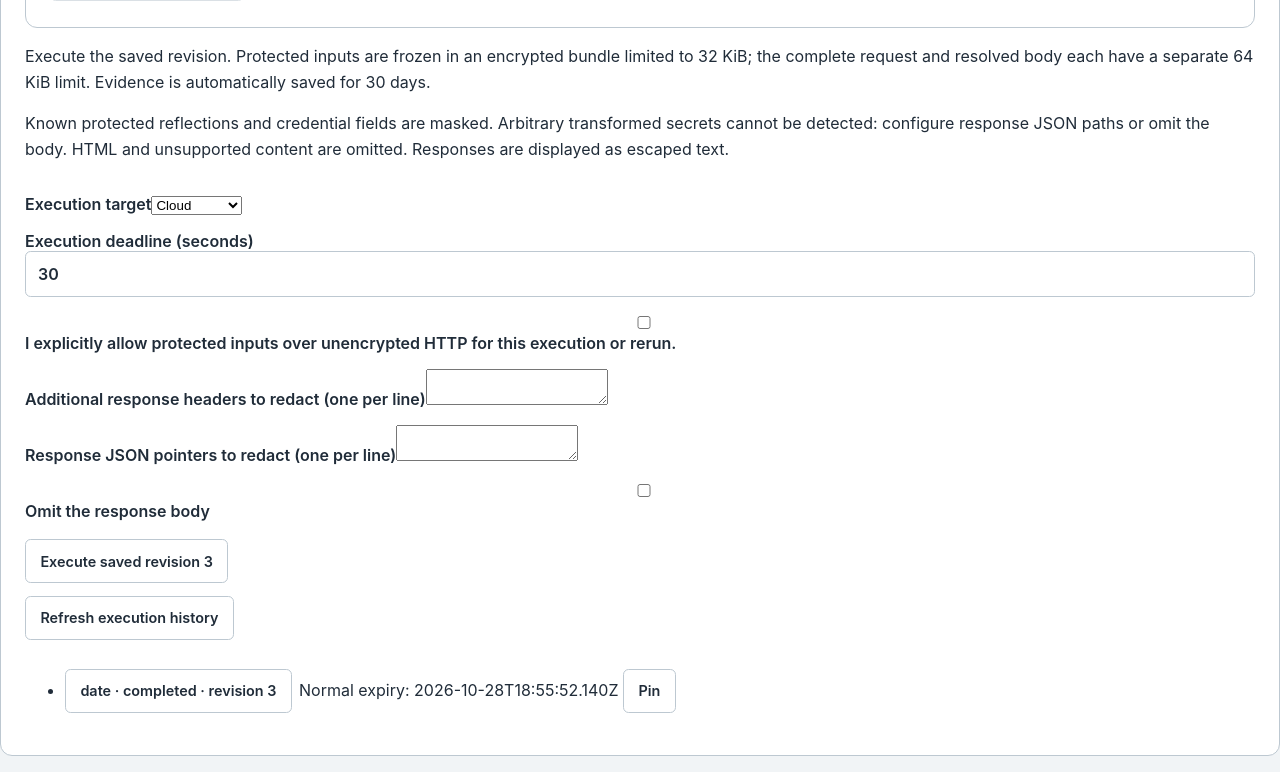
Scenario: refreshes a quota conflict without replaying pin and reconciles uncertain writes deliberately
(page scrolled)
Click the button with aria-label "Pin evidence execution-a": [649, 691] box [623,669,676,713]
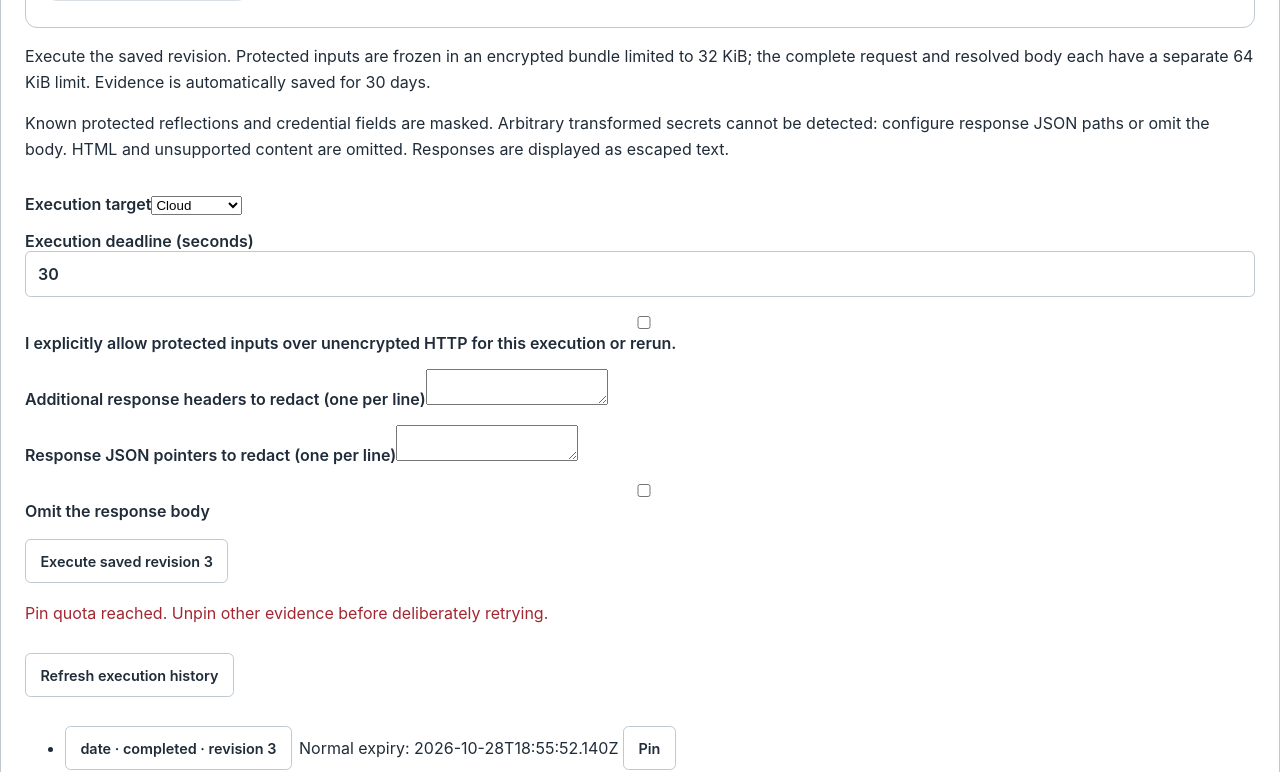
Now the text "Pin quota reached. Unpin other evidence before deliberately retrying." is shown, box [25,603,548,623]
Click the button with aria-label "Pin evidence execution-a": [649, 748] box [623,726,676,770]
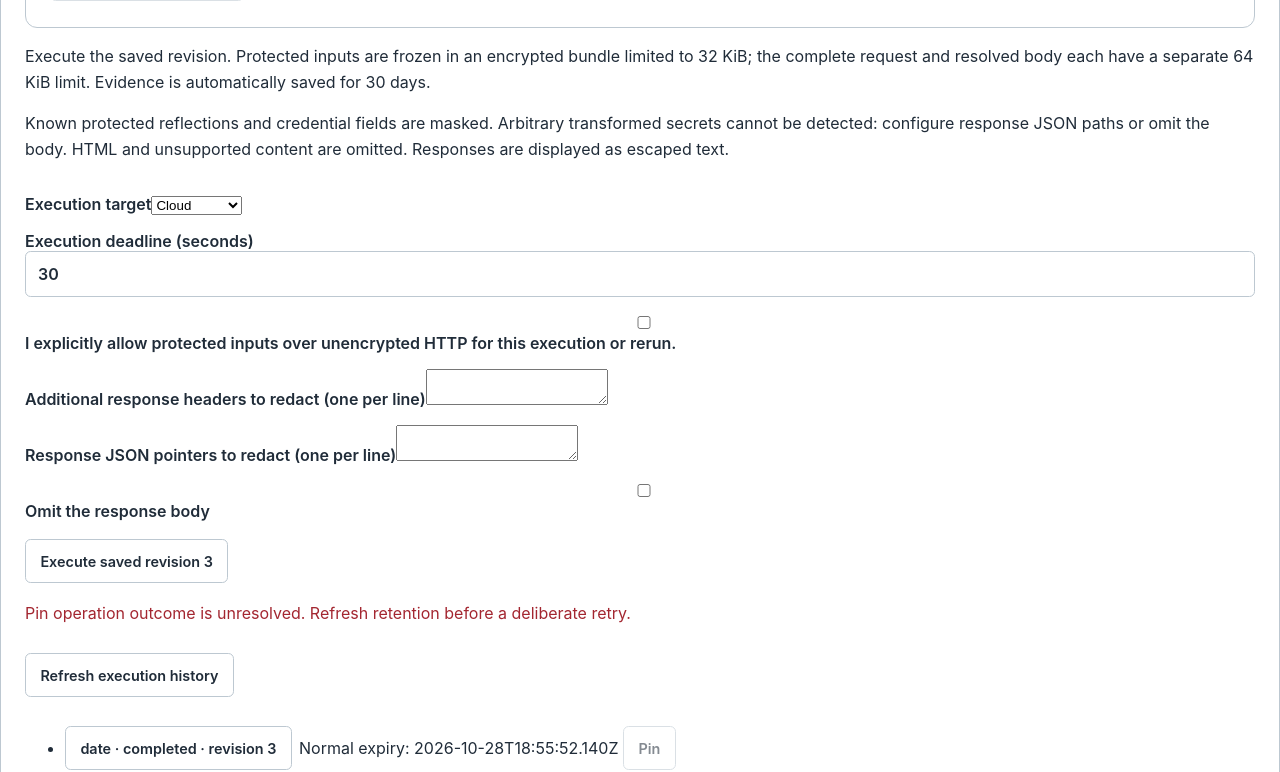
Now the text "Pin operation outcome is unresolved" is shown, box [25,603,631,623]
Now the button with aria-label "Pin evidence execution-a" is disabled, box [623,726,676,770]
Click the button "Refresh execution history": [129, 675] box [25,653,234,697]
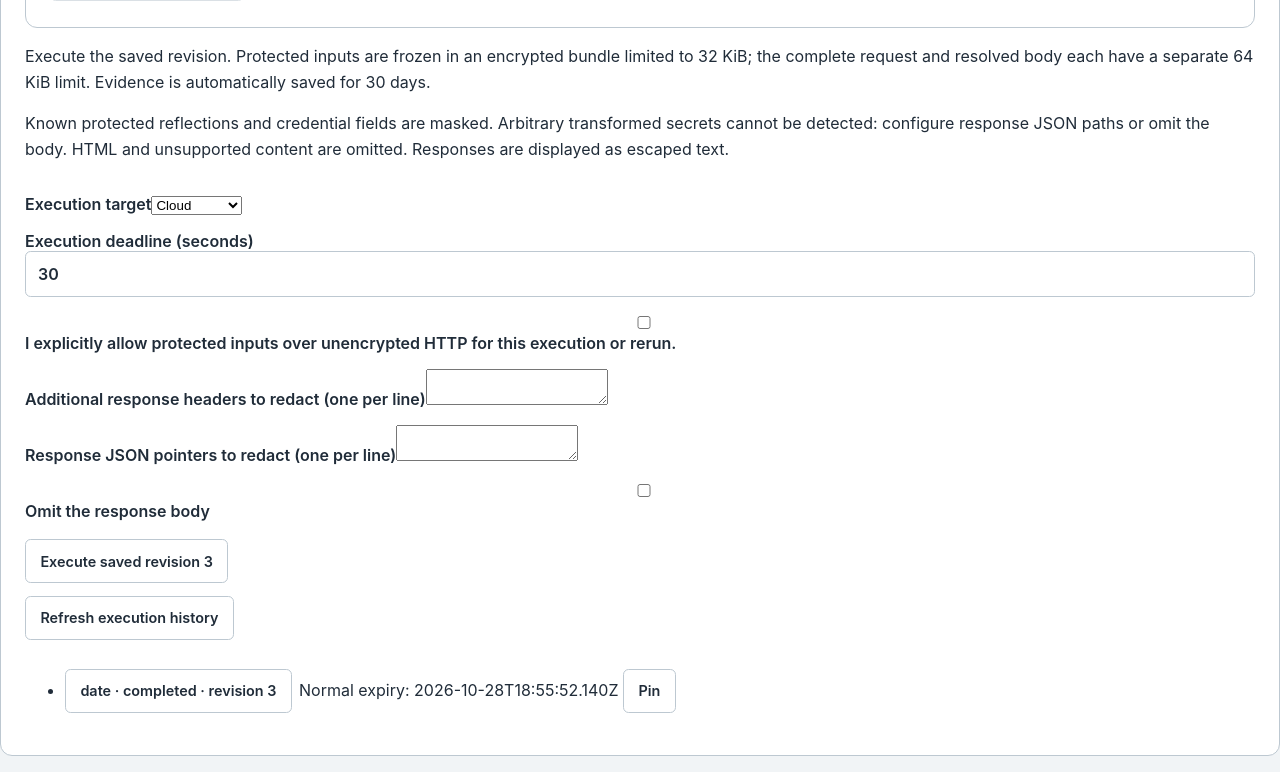
Now the button with aria-label "Pin evidence execution-a" is enabled, box [623,669,676,713]
